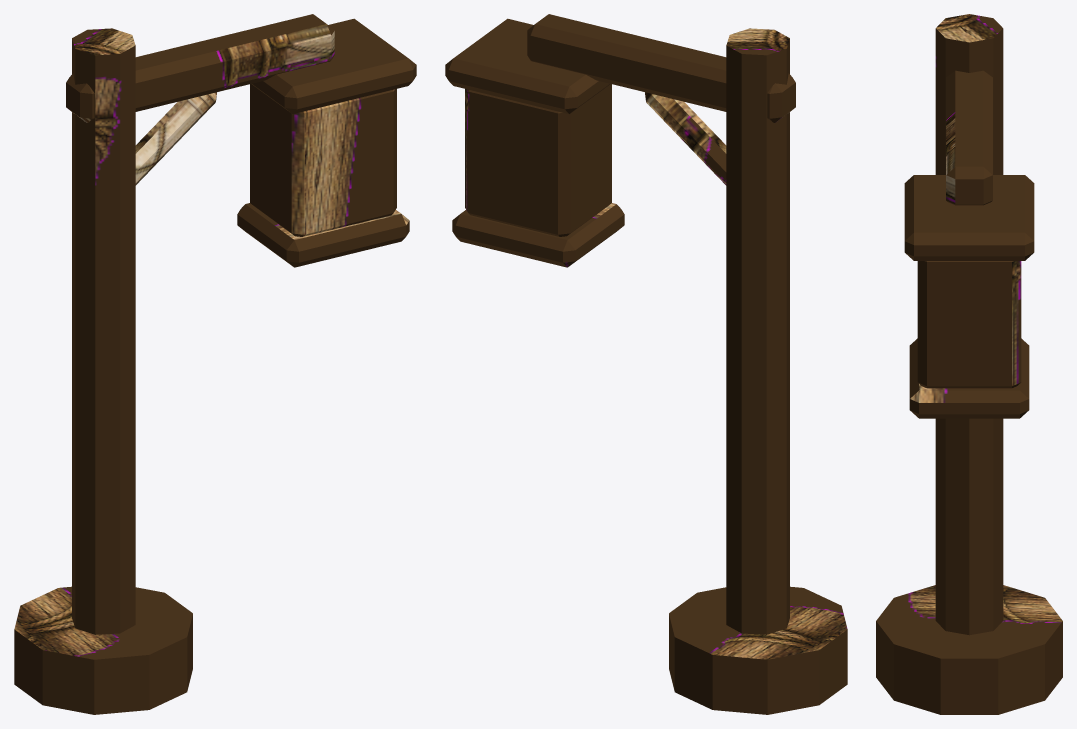
The model's file is lantern-post.glb.
3 renders of one model, left to right at view 1: azimuth 30°, elevation 25°; view 2: azimuth 150°, elevation 25°; view 3: azimuth 270°, elevation 25°, orthographic. The views are drawn at different scales.
Visible parts, largest first — view 1: LanternPost; view 2: LanternPost; view 3: LanternPost.
Part boxes in pixels (bbox=[...]): LanternPost: bbox=[14, 14, 416, 714]; LanternPost: bbox=[445, 14, 847, 714]; LanternPost: bbox=[876, 14, 1062, 714].
Bounding box in the file's own units: 0.8212 × 1.38 × 0.36.
Materials: 1 (1 with a texture image).
